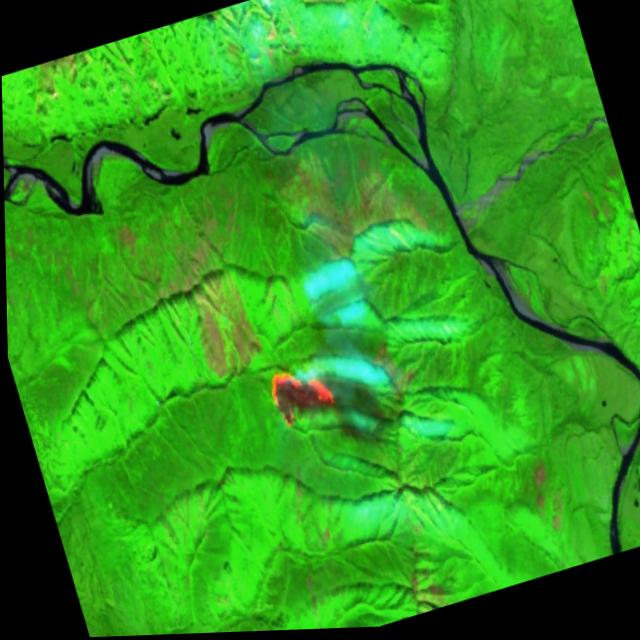fire: (254, 354, 340, 442)
